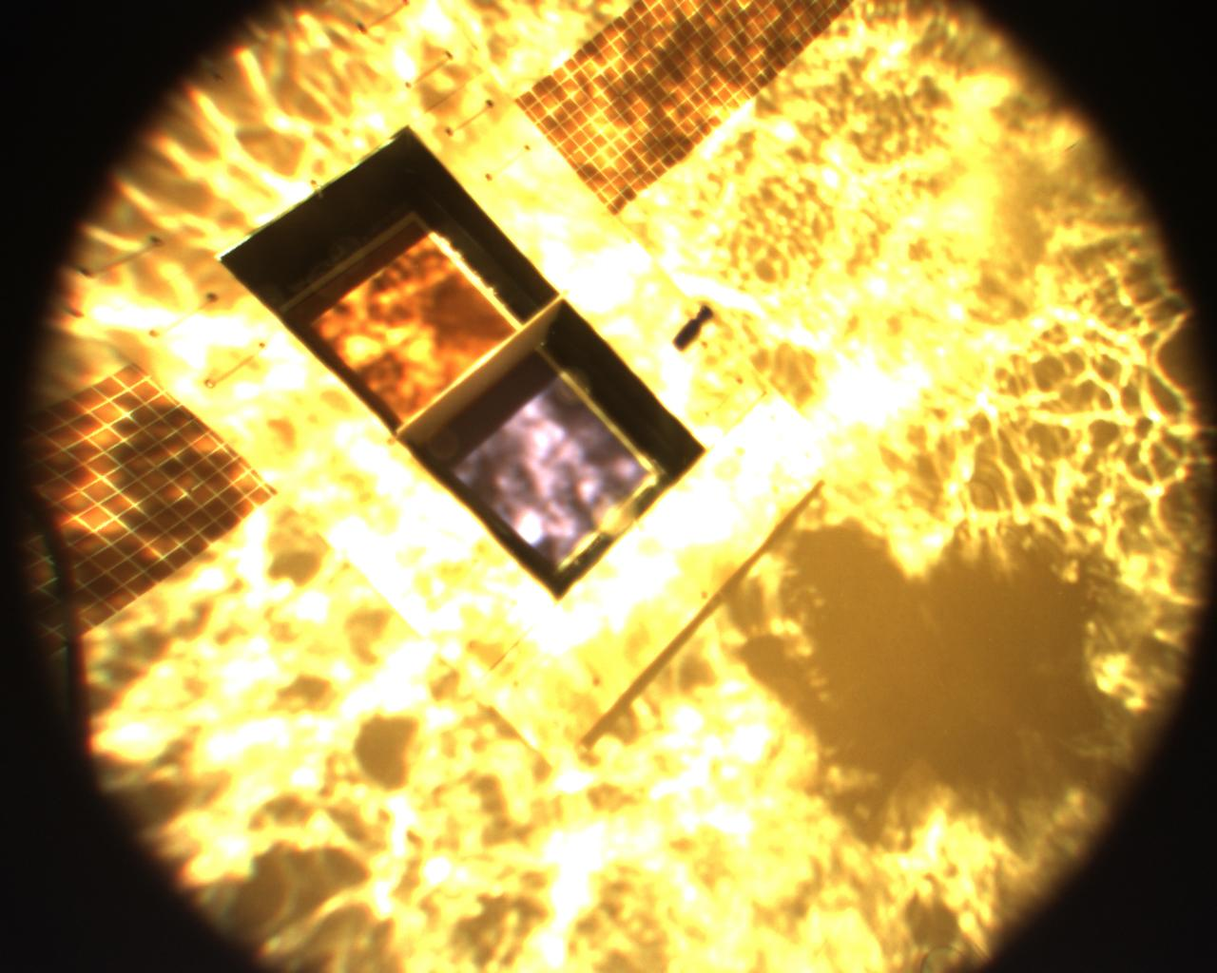dropper-box-top: (124, 63, 834, 774)
